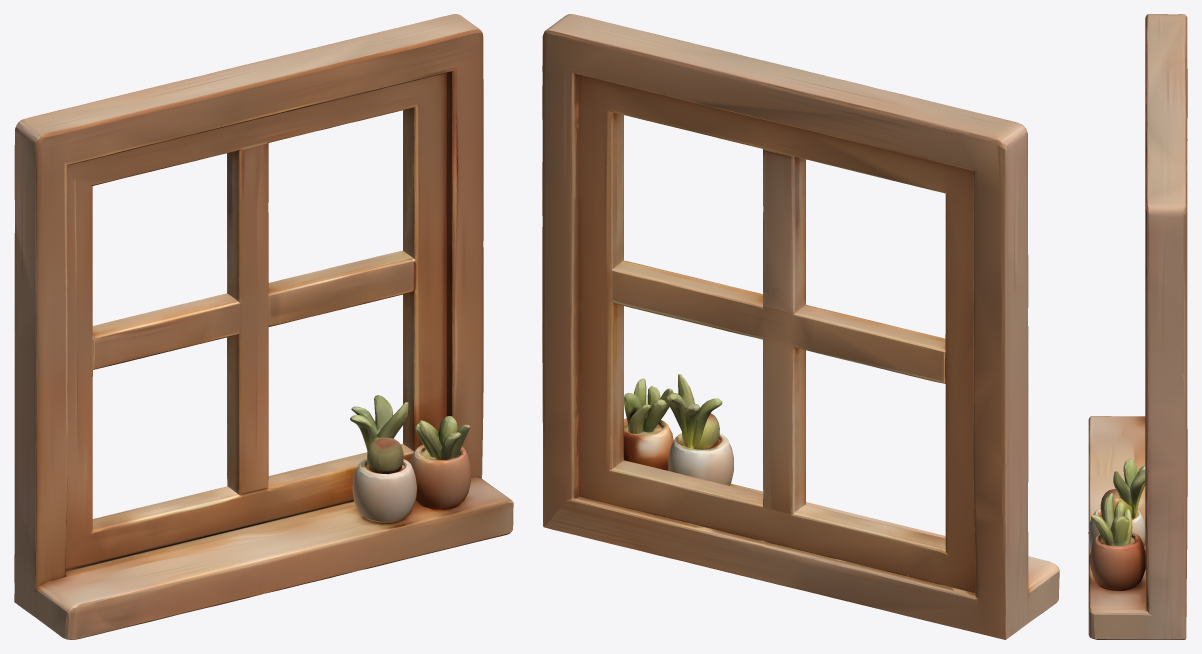
The model's file is Window2.glb.
3 views of the same model, side by side, from view 1: azimuth 30°, elevation 25°; view 2: azimuth 150°, elevation 25°; view 3: azimuth 270°, elevation 25° (orthographic). The views are drawn at different scales.
Parts seen in each view (by area): view 1: model; view 2: model; view 3: model.
Part boxes in pixels (x1,y1,x2,y2): model: (14,14,513,639); model: (542,14,1059,639); model: (1088,14,1187,639).
Bounding box in the file's own units: 1.76 × 1.8 × 0.374.
Materials: 1 (1 with a texture image).
